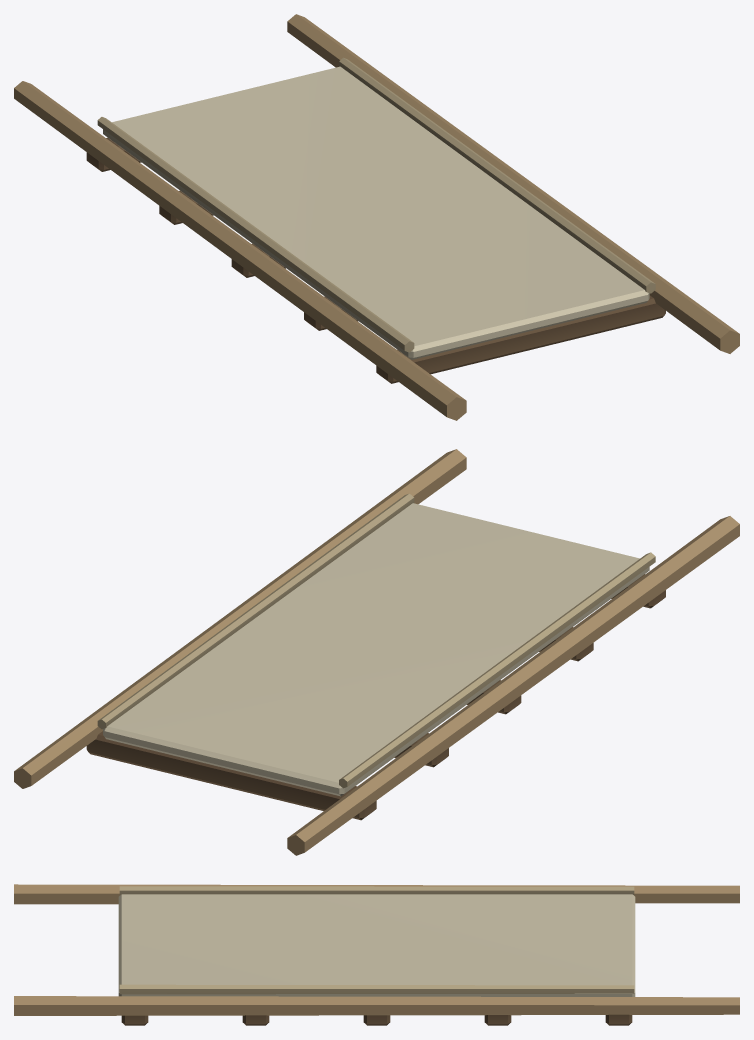
The model's file is procession_frame.glb.
The picture shows the model from 3 angles, top to bottom: view 1: azimuth 30°, elevation 25°; view 2: azimuth 150°, elevation 25°; view 3: azimuth 270°, elevation 25°; orthographic projection. The views are drawn at different scales.
Visible parts, largest first — view 1: procession_frame; view 2: procession_frame; view 3: procession_frame.
Part boxes in pixels (x1,y1,x2,y2): procession_frame: (14, 14, 739, 420); procession_frame: (14, 449, 739, 855); procession_frame: (14, 884, 739, 1025).
Bounding box in the file's own units: 1.29 × 0.174 × 3.3.
